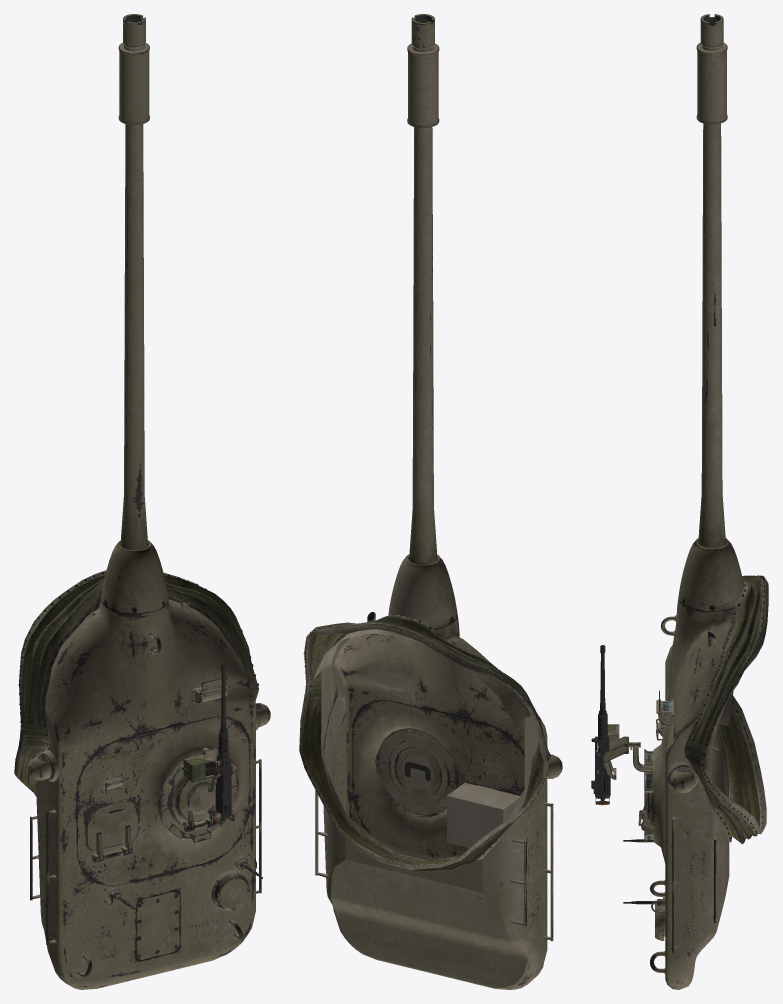
Rendered from Gun_01.glb.
3 views of the same model, side by side, from view 1: azimuth 30°, elevation 25°; view 2: azimuth 150°, elevation 25°; view 3: azimuth 270°, elevation 25° (orthographic). The views are drawn at different scales.
Visible parts, largest first — view 1: set_0_group_0; view 2: set_0_group_0; view 3: set_0_group_0.
Part boxes in pixels (box(x1,y1,x2,y2)): set_0_group_0: box(14, 14, 270, 989); set_0_group_0: box(299, 14, 562, 989); set_0_group_0: box(591, 14, 768, 989).
Size of the model in its own units: 2.65 by 9.93 by 1.7.
1 material, 1 textured.
